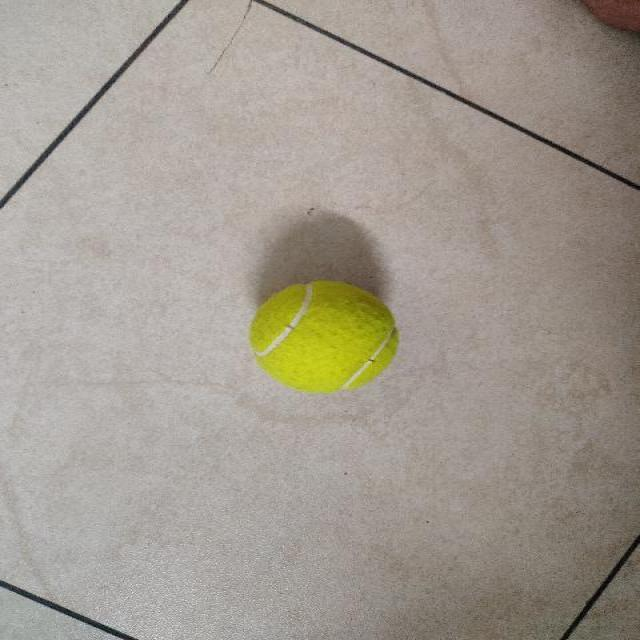tennis-ball: (247, 280, 397, 393)
